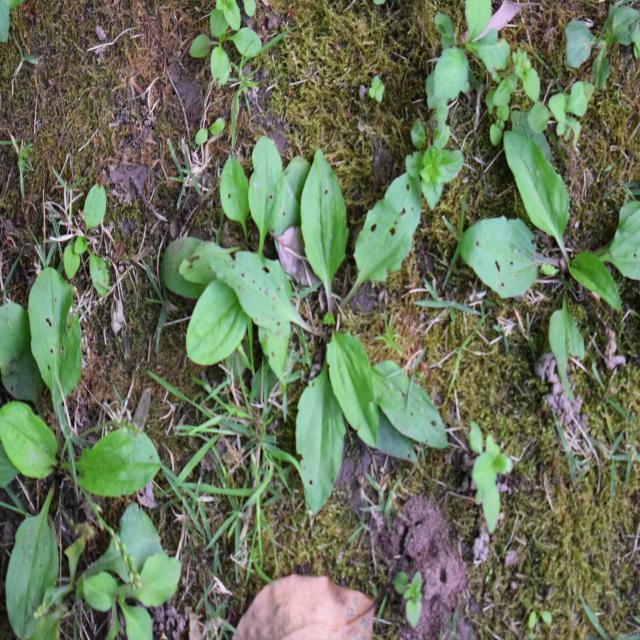plantain: (208, 150, 451, 506), (0, 281, 170, 578), (462, 120, 635, 354)
